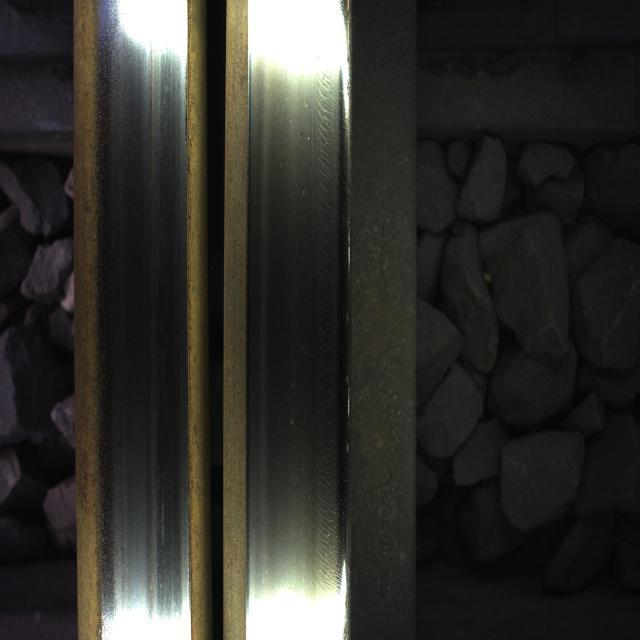break: (104, 14, 184, 600)
normal: (252, 17, 338, 628)
